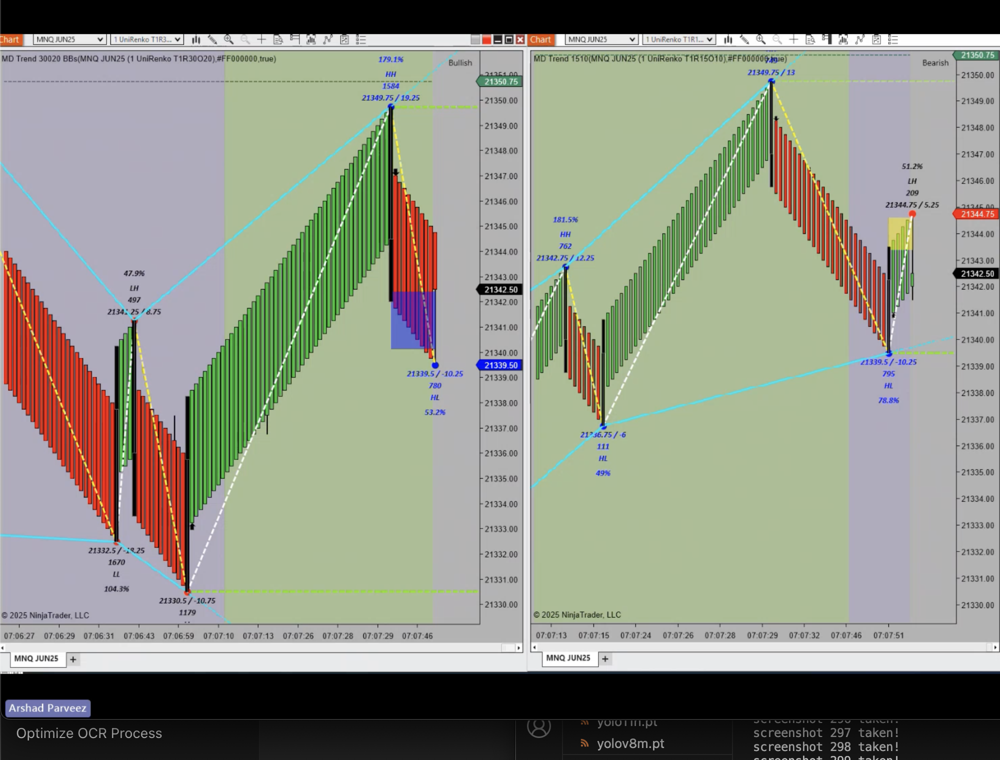HH: (380, 66, 405, 82), (555, 226, 579, 242)
HL: (879, 375, 901, 397), (593, 451, 617, 467), (425, 388, 446, 405)
LH: (123, 280, 148, 297), (904, 172, 925, 191)
LL: (107, 567, 123, 583)
